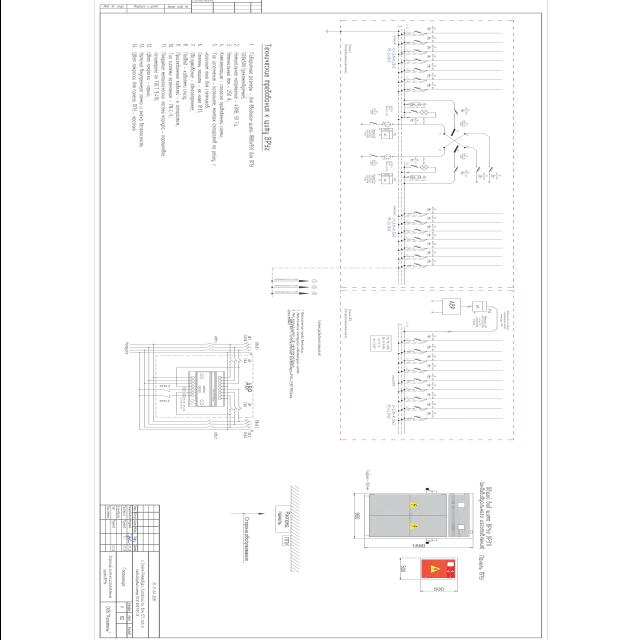-: (362, 173, 377, 185), (362, 129, 376, 139), (384, 105, 390, 117), (384, 160, 390, 172), (426, 224, 434, 232), (426, 249, 434, 257), (426, 72, 434, 80), (476, 172, 484, 180), (426, 206, 434, 214), (425, 35, 433, 43), (426, 240, 434, 248), (426, 62, 434, 70), (425, 26, 433, 34), (426, 231, 434, 239), (426, 258, 434, 266), (459, 170, 467, 178), (458, 107, 466, 115), (426, 82, 434, 90), (425, 54, 433, 62), (426, 44, 434, 52), (490, 172, 498, 180), (426, 215, 434, 222), (458, 120, 464, 128), (458, 152, 464, 160), (368, 160, 374, 167), (369, 108, 375, 115), (409, 158, 416, 164), (409, 118, 416, 124)
HL: (419, 110, 427, 116), (419, 164, 427, 170)
QF: (407, 110, 418, 114), (410, 86, 421, 90), (410, 210, 421, 214), (410, 262, 421, 266), (407, 165, 418, 169), (452, 165, 458, 172), (487, 165, 493, 172), (452, 108, 458, 115), (410, 40, 420, 44), (474, 164, 479, 172), (411, 30, 421, 34), (411, 49, 421, 53), (412, 58, 422, 62), (412, 68, 422, 72), (412, 77, 422, 81), (410, 220, 420, 224), (410, 228, 420, 232), (411, 246, 421, 250), (411, 254, 421, 258), (411, 237, 421, 240)
QS: (368, 154, 376, 158), (368, 122, 376, 125)
TT: (383, 121, 391, 128), (382, 154, 390, 160)
WH: (380, 131, 392, 139), (380, 177, 392, 184)
switch: (442, 128, 466, 136), (441, 145, 465, 153)
